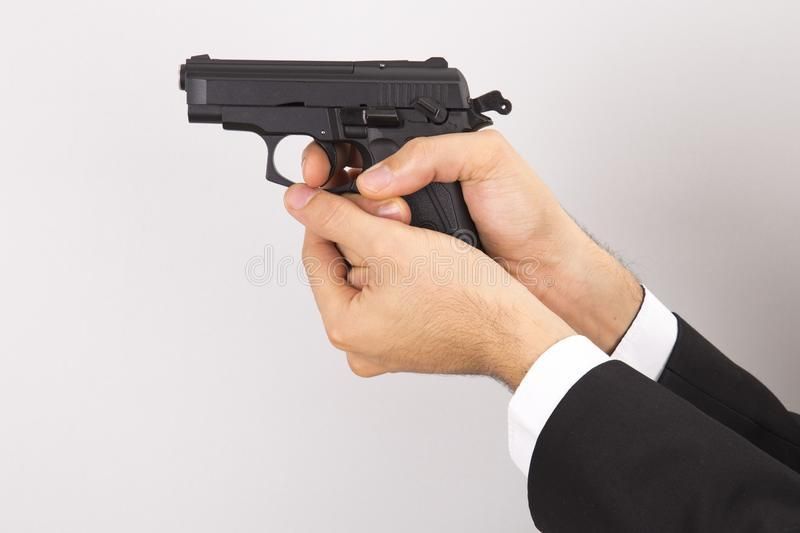weapon: (173, 51, 518, 259)
